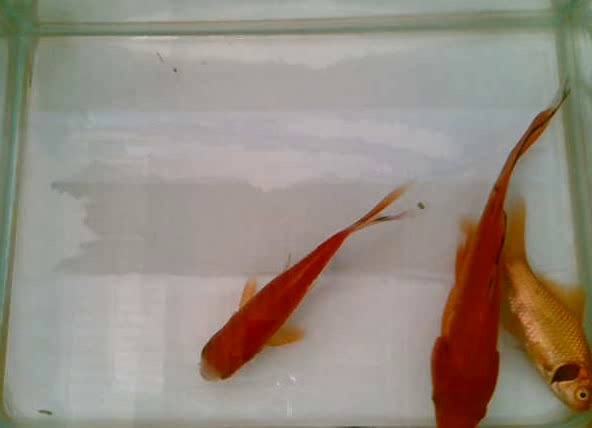alive_fish: (415, 71, 576, 428), (195, 174, 421, 393)
dead_fish: (457, 197, 592, 415)
